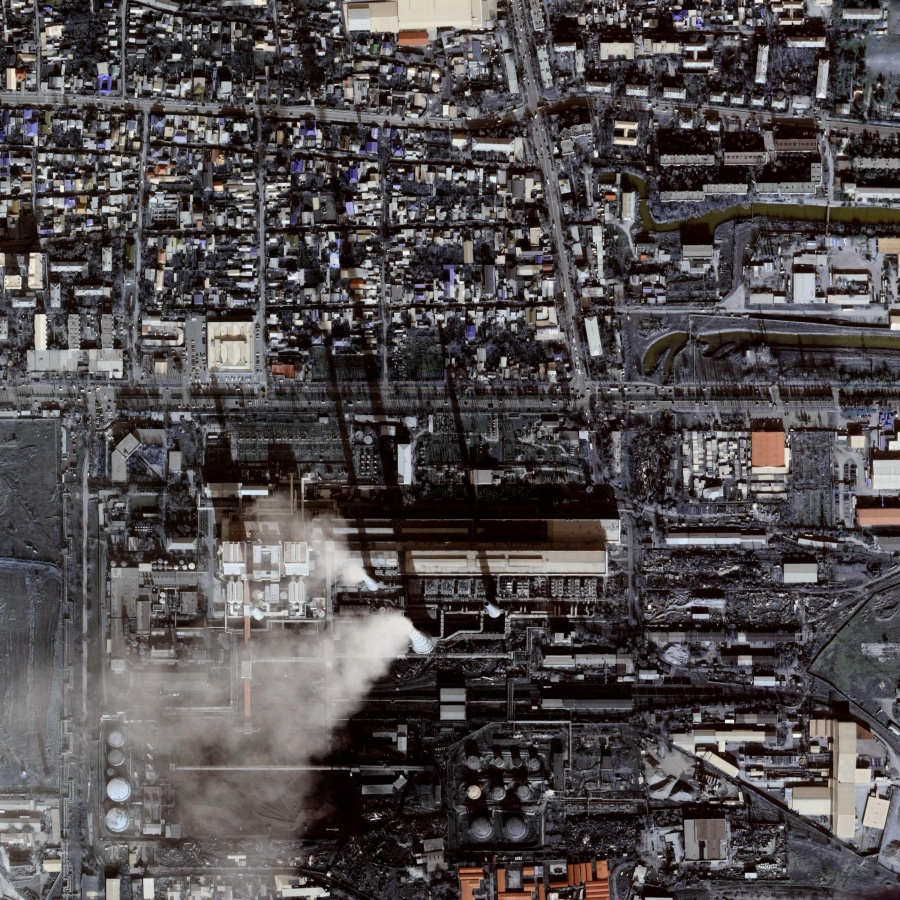PowerPlant: (110, 540, 614, 854)
